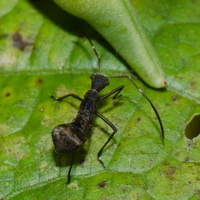insect: (50, 73, 163, 183)
